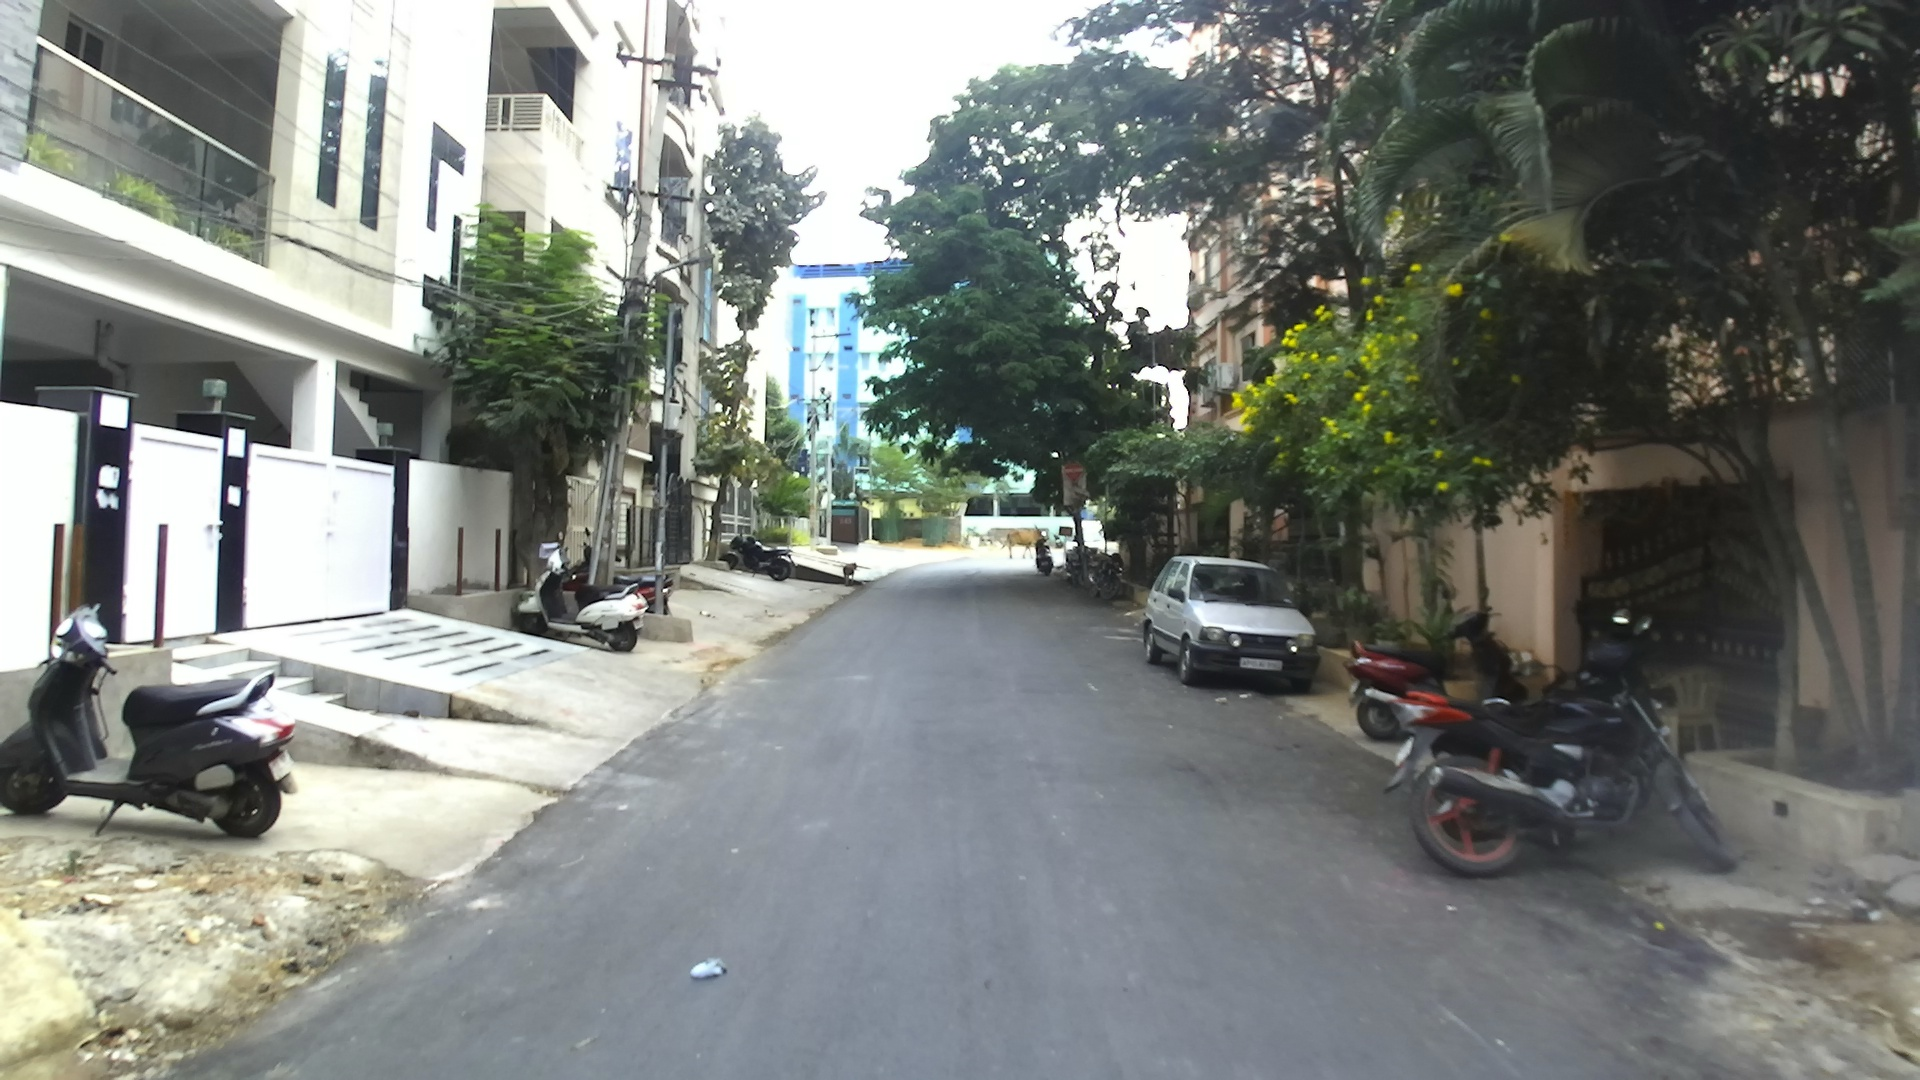vehicle: (1361, 616, 1741, 878), (1138, 555, 1319, 692)
